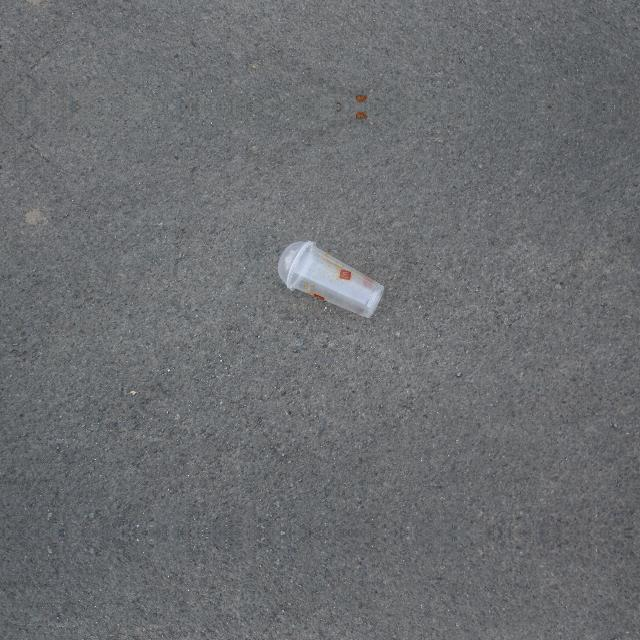Plastic: (278, 240, 384, 318)
